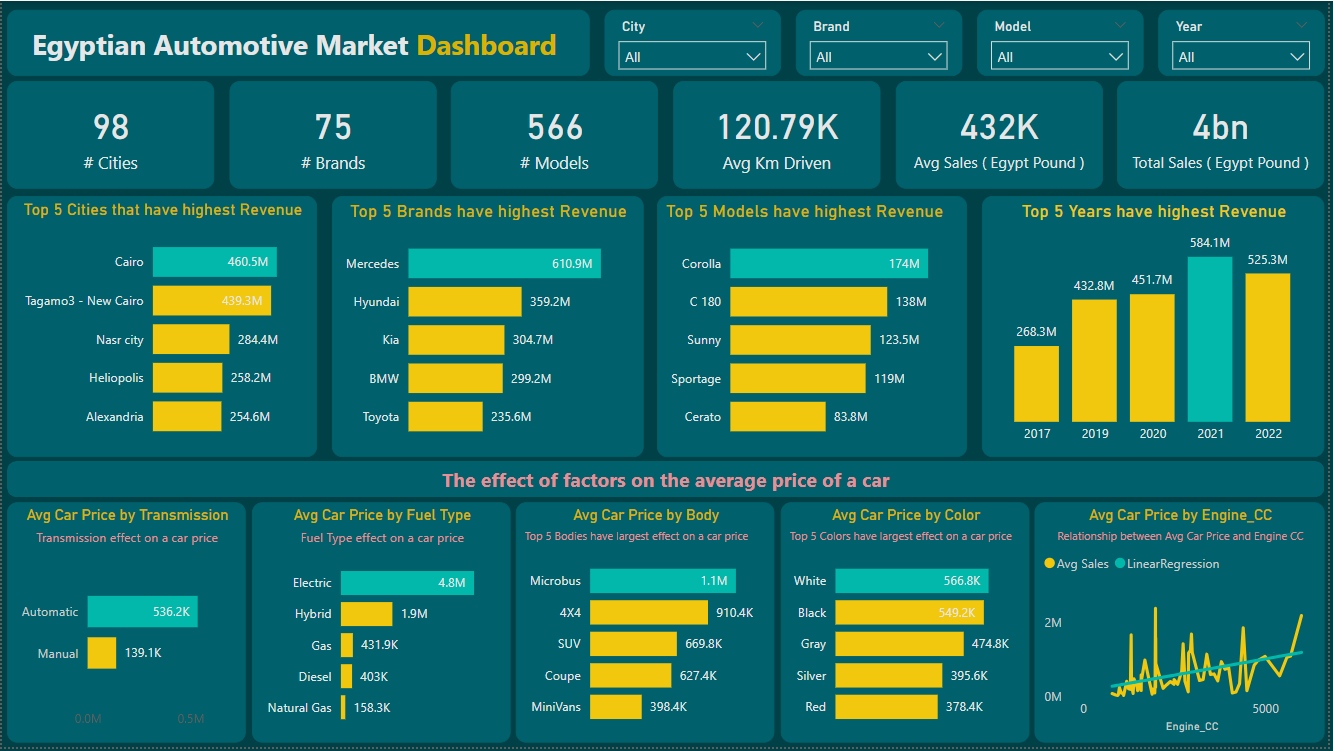

The page's visual inventory and layout, read from the dashboard file:
{"tool":"powerbi","page":{"name":"Page 1","canvas":[1280,720],"ordinal":0},"visuals":[{"type":"textbox","box":[4.8,8.4,562.2,63.9],"z":0},{"type":"card","fields":{"Values":["Egypt-Used-Car-Price.# Brands"]},"box":[219.2,77.2,200.3,103.8],"z":1000},{"type":"card","fields":{"Values":["Egypt-Used-Car-Price.# Models"]},"box":[433.6,77.2,200.3,103.8],"z":2000},{"type":"card","fields":{"Values":["Egypt-Used-Car-Price.Avg Sales"]},"box":[862,77.2,200,103.8],"z":3000},{"type":"card","fields":{"Values":["Egypt-Used-Car-Price.Total Sales"]},"box":[1076.1,77.2,200.3,103.8],"z":4000},{"type":"barChart","title":"Top 5 Brands have highest Revenue","fields":{"Category":["Egypt-Used-Car-Price.Brand"],"Y":["Egypt-Used-Car-Price.Total Sales"]},"box":[318.1,188.2,300.4,252.1],"z":5000},{"type":"barChart","title":"Top 5 Cities that have highest Revenue","fields":{"Category":["Egypt-Used-Car-Price.City"],"Y":["Egypt-Used-Car-Price.Total Sales"]},"box":[4.8,188.2,299.2,252.1],"z":6000},{"type":"barChart","title":"Top 5 Models have highest Revenue","fields":{"Category":["Egypt-Used-Car-Price.Model"],"Y":["Egypt-Used-Car-Price.Total Sales"]},"box":[632.6,188.2,299.2,252.1],"z":7000},{"type":"barChart","title":"Avg Car Price by Color","fields":{"Category":["Egypt-Used-Car-Price.Color"],"Y":["Egypt-Used-Car-Price.Avg Sales"]},"box":[751.1,483.8,240,231.6],"z":8000},{"type":"barChart","title":"Avg Car Price by Transmission","fields":{"Category":["Egypt-Used-Car-Price.Transmission"],"Y":["Egypt-Used-Car-Price.Avg Sales"]},"box":[4.8,483.8,230.4,231.6],"z":9000},{"type":"barChart","title":"Avg Car Price by Fuel Type","fields":{"Category":["Egypt-Used-Car-Price.Fule"],"Y":["Egypt-Used-Car-Price.Avg Sales"]},"box":[240.7,483.8,249.7,231.6],"z":10000},{"type":"slicer","fields":{"Values":["Egypt-Used-Car-Price.Brand"]},"box":[766.1,8.4,160.5,63.9],"z":11000},{"type":"slicer","fields":{"Values":["Egypt-Used-Car-Price.Model"]},"box":[941,8.4,160.5,63.9],"z":12000},{"type":"slicer","fields":{"Values":["Egypt-Used-Car-Price.City"]},"box":[581.5,8.4,170.1,63.9],"z":13000},{"type":"slicer","fields":{"Values":["Egypt-Used-Car-Price.Year"]},"box":[1116,8.4,160.5,63.9],"z":14000},{"type":"card","fields":{"Values":["Egypt-Used-Car-Price.Avg Km Driven"]},"box":[647.9,77.2,200,103.8],"z":15000},{"type":"card","fields":{"Values":["Egypt-Used-Car-Price.# Cities"]},"box":[4.8,77.2,200.3,103.8],"z":16000},{"type":"columnChart","title":"Top 5 Years have highest Revenue","fields":{"Y":["Egypt-Used-Car-Price.Total Sales"],"Category":["Egypt-Used-Car-Price.Year"]},"box":[945.8,188.2,330.6,252.1],"z":17000},{"type":"barChart","title":"Avg Car Price by Body","fields":{"Category":["Egypt-Used-Car-Price.Body"],"Y":["Egypt-Used-Car-Price.Avg Sales"]},"box":[495.9,483.8,249.7,231.6],"z":18000},{"type":"shape","title":"The effect of factors on the average price of a car","box":[4.8,444,1271.6,35],"z":19000},{"type":"lineChart","title":"Avg Car Price  by Engine_CC","fields":{"Category":["Egypt-Used-Car-Price.Engine_CC"],"Y":["Egypt-Used-Car-Price.Avg Sales","Egypt-Used-Car-Price.LinearRegression"]},"box":[996.5,483.8,279.9,231.6],"z":20000}]}

Visuals, with their boxes in screenshot pixels (x1, y1, x2, y2), scaled from the page's 1280x720 canvas onto the 1333x751 screenshot:
textbox: <box>5,9,590,75</box>
card - Egypt-Used-Car-Price.# Brands: <box>228,81,437,189</box>
card - Egypt-Used-Car-Price.# Models: <box>452,81,660,189</box>
card - Egypt-Used-Car-Price.Avg Sales: <box>898,81,1106,189</box>
card - Egypt-Used-Car-Price.Total Sales: <box>1121,81,1329,189</box>
"Top 5 Brands have highest Revenue" barChart: <box>331,196,644,459</box>
"Top 5 Cities that have highest Revenue" barChart: <box>5,196,317,459</box>
"Top 5 Models have highest Revenue" barChart: <box>659,196,970,459</box>
"Avg Car Price by Color" barChart: <box>782,505,1032,746</box>
"Avg Car Price by Transmission" barChart: <box>5,505,245,746</box>
"Avg Car Price by Fuel Type" barChart: <box>251,505,511,746</box>
slicer - Egypt-Used-Car-Price.Brand: <box>798,9,965,75</box>
slicer - Egypt-Used-Car-Price.Model: <box>980,9,1147,75</box>
slicer - Egypt-Used-Car-Price.City: <box>606,9,783,75</box>
slicer - Egypt-Used-Car-Price.Year: <box>1162,9,1329,75</box>
card - Egypt-Used-Car-Price.Avg Km Driven: <box>675,81,883,189</box>
card - Egypt-Used-Car-Price.# Cities: <box>5,81,214,189</box>
"Top 5 Years have highest Revenue" columnChart: <box>985,196,1329,459</box>
"Avg Car Price by Body" barChart: <box>516,505,776,746</box>
"The effect of factors on the average price of a car" shape: <box>5,463,1329,500</box>
"Avg Car Price  by Engine_CC" lineChart: <box>1038,505,1329,746</box>
